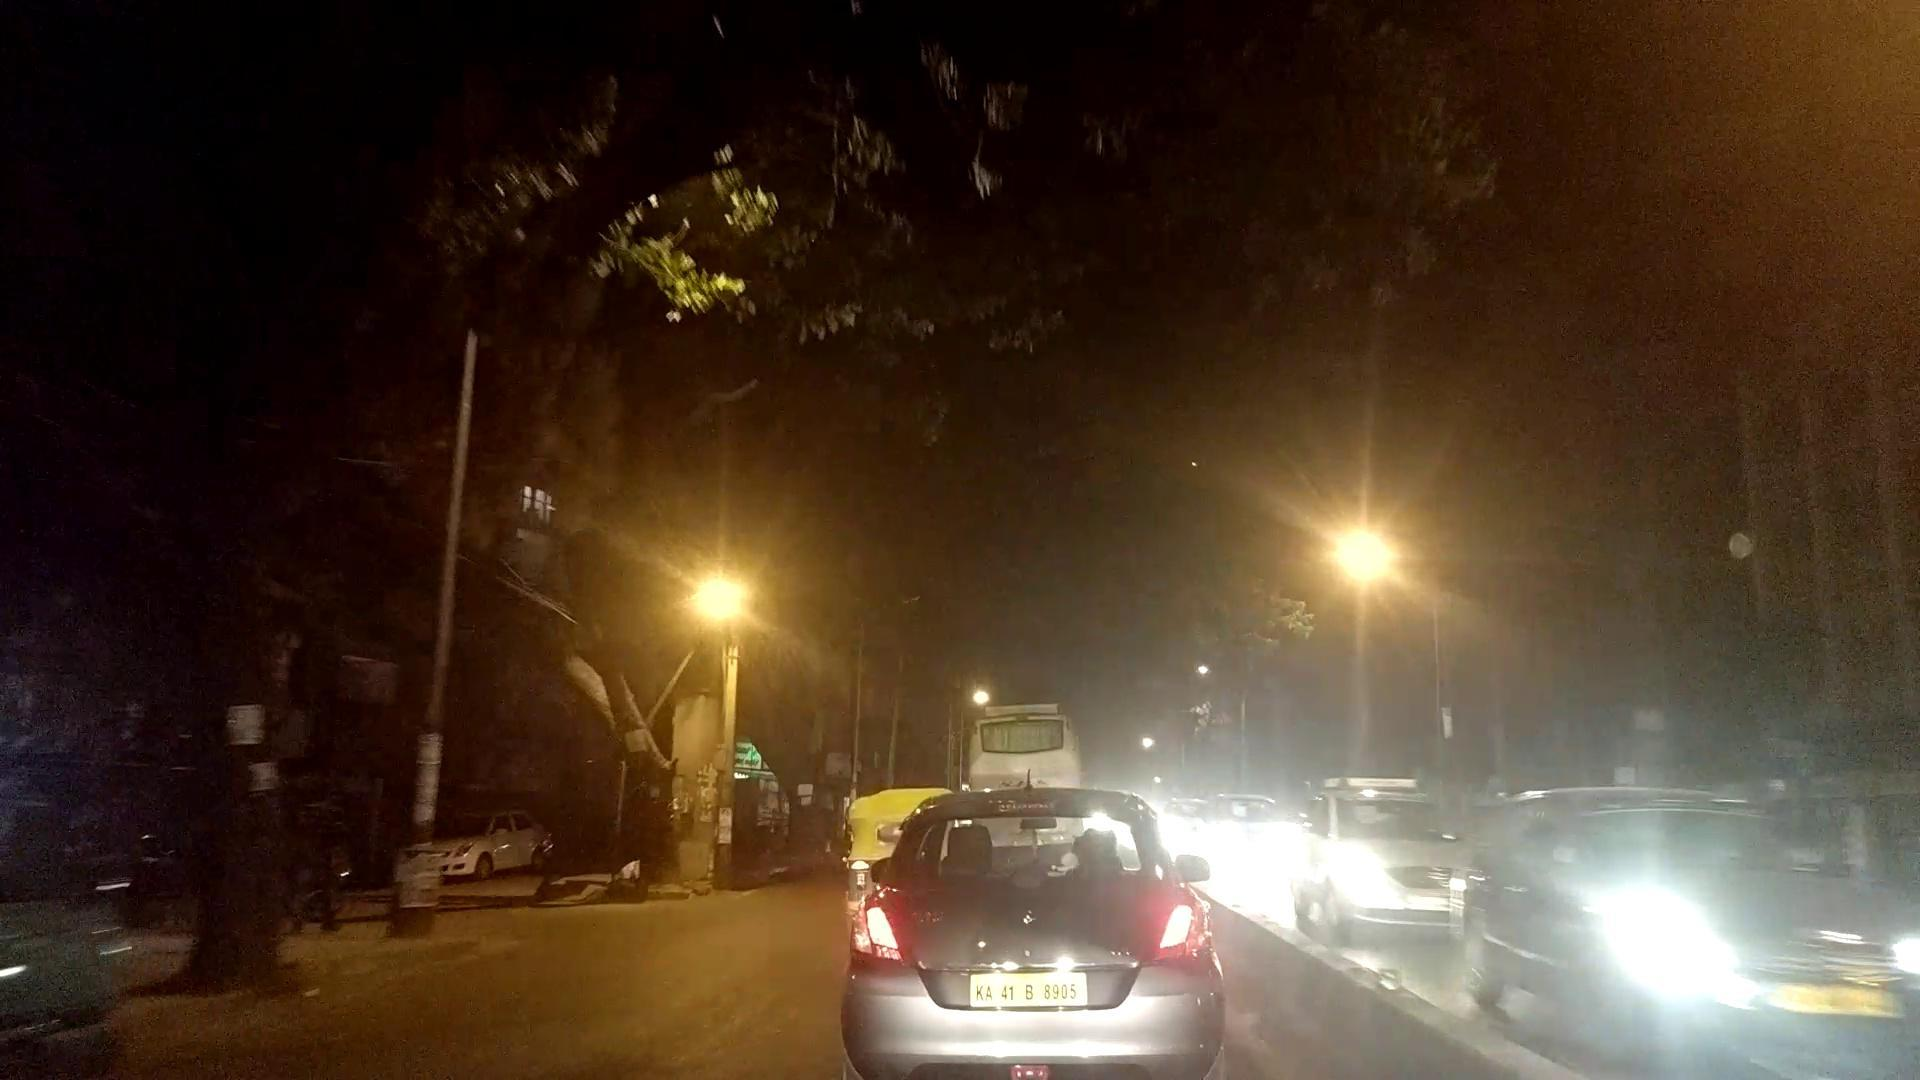on: (630, 363, 895, 795), (1200, 382, 1486, 707)
